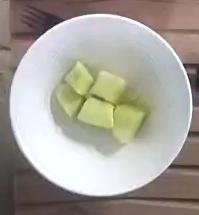fruit: (55, 60, 146, 141)
